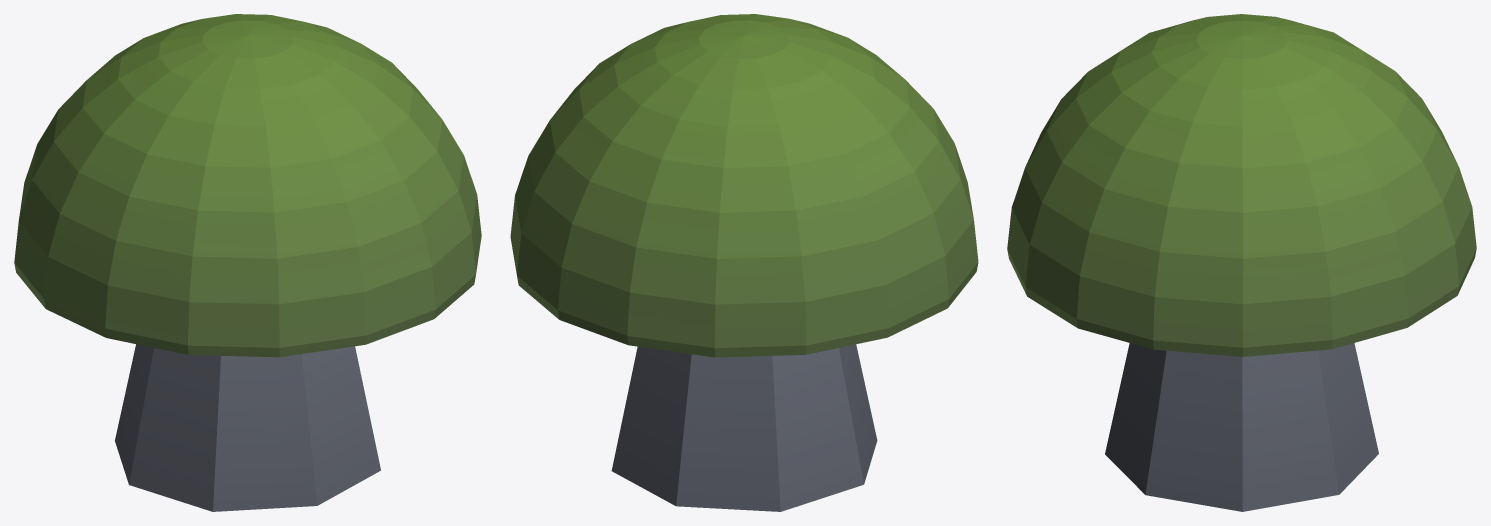
Rendered from Mushroom_15.fbx.
3 renders of one model, left to right at view 1: azimuth 30°, elevation 25°; view 2: azimuth 150°, elevation 25°; view 3: azimuth 270°, elevation 25°, orthographic.
Visible parts, largest first — view 1: Mushroom_15; view 2: Mushroom_15; view 3: Mushroom_15.
Boxes of the visible parts, box(x1,y1,x2,y2) form: Mushroom_15: box(14, 14, 481, 511); Mushroom_15: box(510, 14, 978, 511); Mushroom_15: box(1007, 14, 1476, 511).
Size of the model in its own units: 0.6587 by 0.6474 by 0.6587.
